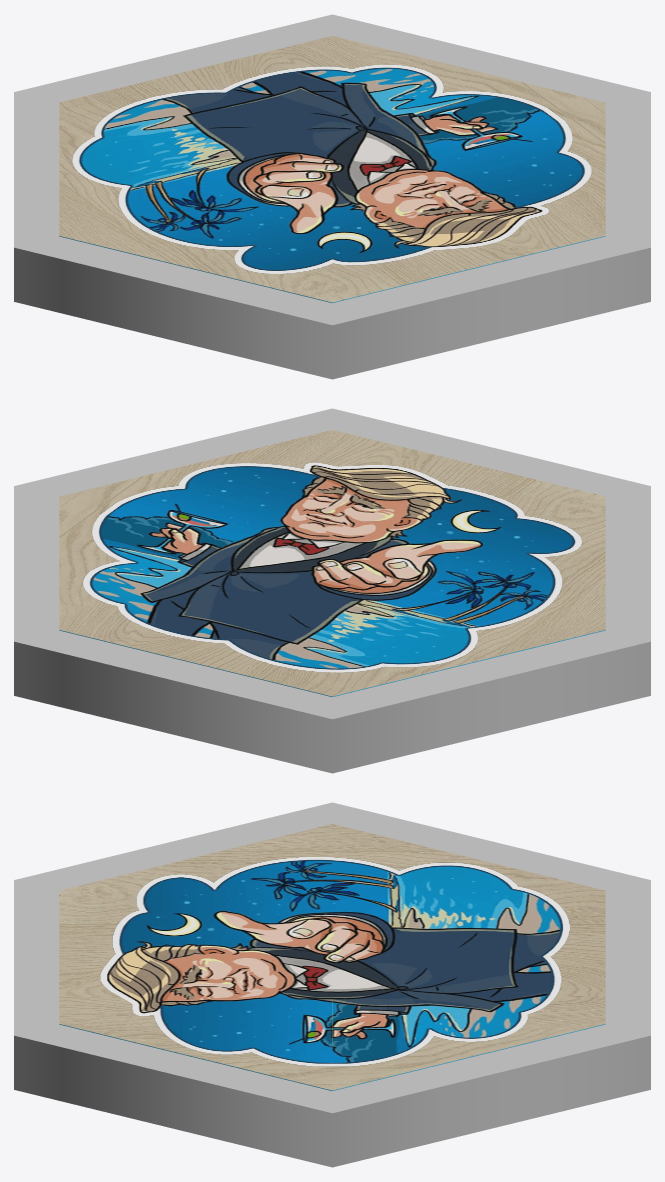
File: Puzzle_12.FBX
The picture shows the model from 3 angles, top to bottom: view 1: azimuth 30°, elevation 25°; view 2: azimuth 150°, elevation 25°; view 3: azimuth 270°, elevation 25°; orthographic projection.
Parts seen in each view (by area): view 1: Cylinder001, 1, 10, 4, 5, 7, 3, 2, 8, 6, 9; view 2: Cylinder001, 1, 10, 4, 5, 7, 3, 2, 8, 6, 9; view 3: Cylinder001, 1, 10, 4, 7, 5, 3, 8, 2, 6, 9.
Boxes of the visible parts, x1,y1,x2,y2 form: Cylinder001: [14, 14, 650, 379]; 1: [59, 102, 421, 303]; 10: [150, 99, 332, 213]; 4: [332, 99, 513, 213]; 5: [241, 147, 426, 280]; 7: [424, 102, 605, 235]; 3: [254, 36, 411, 124]; 2: [59, 55, 254, 124]; 8: [411, 55, 604, 124]; 6: [422, 213, 605, 281]; 9: [333, 168, 514, 234]; Cylinder001: [14, 408, 650, 773]; 1: [332, 475, 605, 696]; 10: [228, 563, 513, 651]; 4: [150, 497, 422, 585]; 5: [332, 475, 516, 607]; 7: [60, 430, 332, 540]; 3: [59, 569, 241, 649]; 2: [137, 626, 332, 696]; 8: [59, 496, 150, 591]; 6: [332, 430, 515, 496]; 9: [239, 474, 423, 540]; Cylinder001: [14, 802, 650, 1167]; 1: [59, 824, 604, 933]; 10: [332, 868, 514, 979]; 4: [241, 935, 435, 1045]; 7: [59, 1001, 332, 1090]; 5: [60, 890, 422, 958]; 3: [423, 963, 605, 1043]; 8: [332, 1021, 526, 1090]; 2: [514, 890, 605, 985]; 6: [59, 934, 150, 1023]; 9: [150, 935, 243, 1024].
Size of the model in its own units: 4 by 0.3294 by 3.46.
